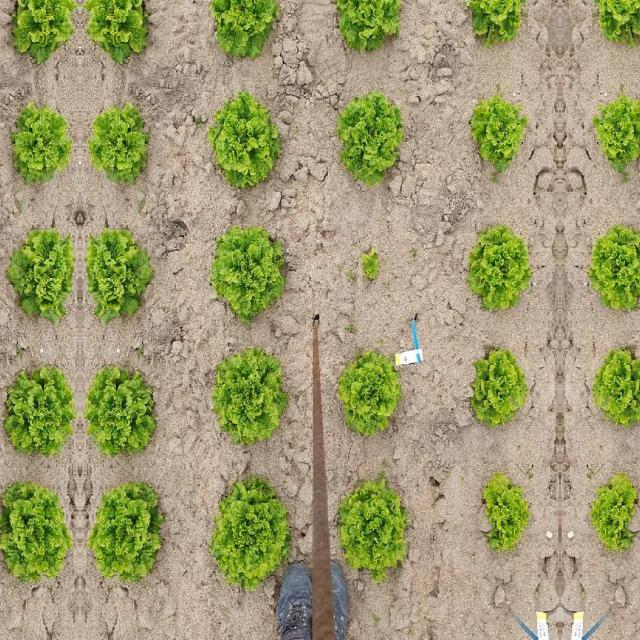healthy: (208, 476, 294, 592), (196, 93, 270, 203), (87, 481, 165, 585), (212, 344, 286, 452), (337, 473, 413, 577), (213, 223, 289, 325), (0, 481, 73, 585), (84, 359, 158, 456), (2, 359, 76, 456), (84, 225, 154, 323), (6, 225, 76, 323), (466, 223, 536, 314), (338, 93, 404, 185), (336, 344, 402, 434), (468, 338, 528, 434), (85, 102, 151, 188), (9, 102, 75, 188), (468, 90, 526, 184), (80, 0, 153, 72), (6, 0, 79, 72), (584, 223, 640, 314), (209, 0, 283, 66), (592, 338, 640, 433), (477, 475, 533, 555), (332, 0, 406, 60), (593, 90, 640, 183), (587, 475, 640, 555), (467, 0, 524, 46), (595, 0, 640, 46), (357, 240, 381, 282)
